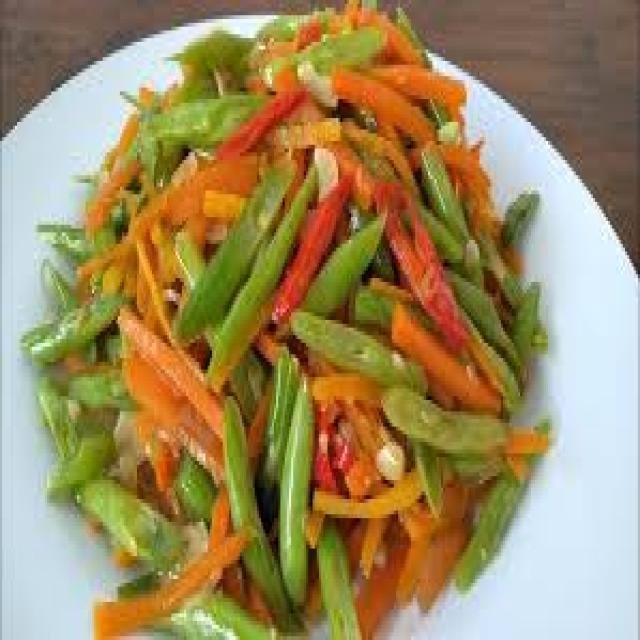kacang_panjang: (195, 364, 340, 609), (416, 150, 558, 365), (23, 282, 134, 524), (175, 180, 303, 341), (133, 31, 264, 154)
wortel: (324, 373, 462, 584), (310, 8, 484, 175), (387, 255, 518, 423), (113, 294, 240, 462), (94, 510, 240, 640)
